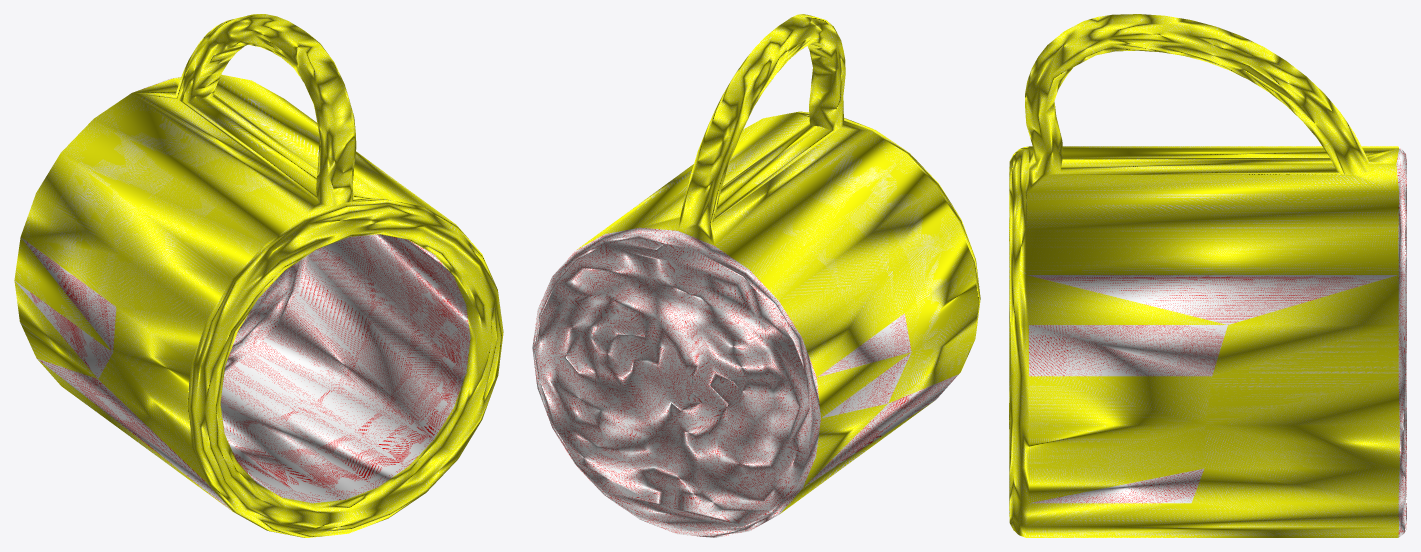
File: model_align.obj
3 views of the same model, side by side, from view 1: azimuth 30°, elevation 25°; view 2: azimuth 150°, elevation 25°; view 3: azimuth 270°, elevation 25° (orthographic). The views are drawn at different scales.
Size of the model in its own units: 0.0892 by 0.1257 by 0.0903.
